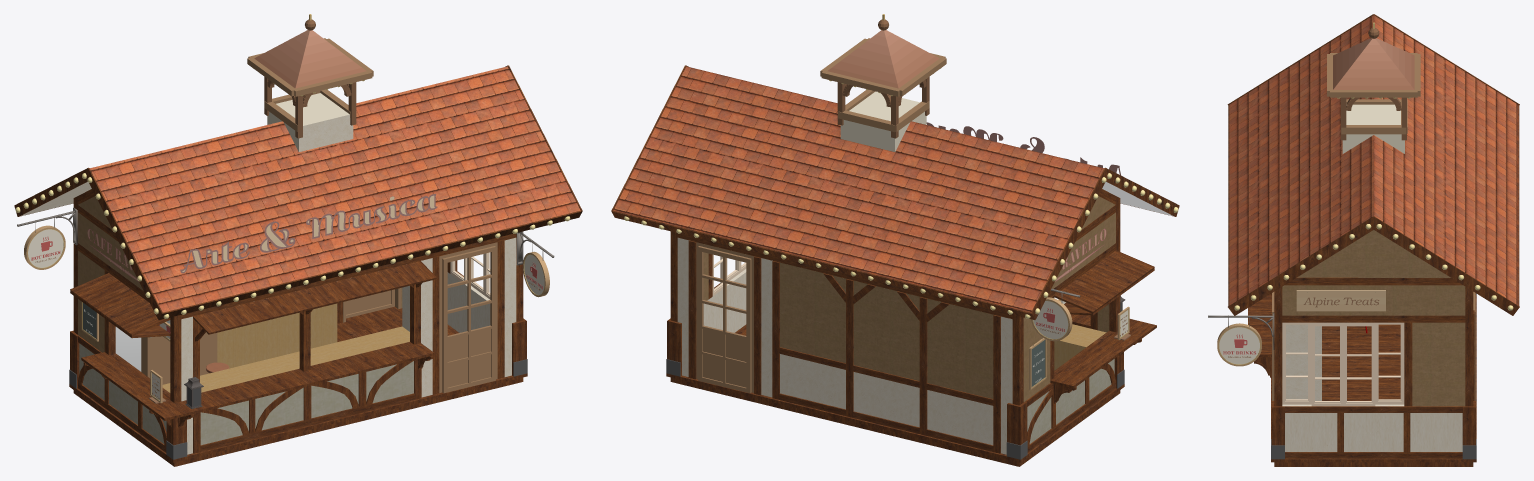
3 views of the same model, side by side, from view 1: azimuth 30°, elevation 25°; view 2: azimuth 150°, elevation 25°; view 3: azimuth 270°, elevation 25° (orthographic).
Visible parts, largest first — view 1: Geom3D (×22), Geom3D_ (×10), Geom3D_Component#24 (×4), Geom3D_Component#35, Geom3D_Component#29, Geom3D_Thanh dinh#5, Geom3D_Component#22, Geom3D_Thanh dinh#4, Geom3D_Bo goc#1; view 2: Geom3D (×17), Geom3D_ (×10), Geom3D_Component#36 (×6), Geom3D_Thanh dinh#5 (×2), Geom3D_Component#35, Geom3D_Component#22 (×3), Geom3D_Component#32, Geom3D_Bo goc#1 (×2), Geom3D_Thanh dinh#4; view 3: Geom3D (×14), Geom3D_ (×9), Geom3D_Component#23 (×2), Geom3D_Thanh dinh#4 (×2), Geom3D_Component#25 (×2), Geom3D_Component#22 (×2), Geom3D_Component#27 (×2), Geom3D_Bo goc#1 (×2), Geom3D_Component#35 (×2), Geom3D_Component#21.
Boxes of the visible parts, x1=… form: Geom3D (×22): x1=20, y1=42, x2=580, y2=454; Geom3D_ (×10): x1=14, y1=167, x2=527, y2=466; Geom3D_Component#24 (×4): x1=299, y1=240, x2=504, y2=394; Geom3D_Component#35: x1=160, y1=210, x2=581, y2=319; Geom3D_Component#29: x1=181, y1=233, x2=516, y2=319; Geom3D_Thanh dinh#5: x1=200, y1=393, x2=414, y2=451; Geom3D_Component#22: x1=170, y1=315, x2=181, y2=402; Geom3D_Thanh dinh#4: x1=78, y1=382, x2=166, y2=452; Geom3D_Bo goc#1: x1=512, y1=318, x2=526, y2=375; Geom3D (×17): x1=613, y1=42, x2=1106, y2=454; Geom3D_ (×10): x1=666, y1=167, x2=1179, y2=466; Geom3D_Component#36 (×6): x1=688, y1=240, x2=1000, y2=453; Geom3D_Thanh dinh#5 (×2): x1=779, y1=347, x2=993, y2=451; Geom3D_Component#35: x1=612, y1=210, x2=1033, y2=319; Geom3D_Component#22 (×3): x1=670, y1=196, x2=1120, y2=405; Geom3D_Component#32: x1=677, y1=233, x2=1012, y2=319; Geom3D_Bo goc#1 (×2): x1=667, y1=318, x2=1027, y2=445; Geom3D_Thanh dinh#4: x1=1027, y1=382, x2=1115, y2=452; Geom3D (×14): x1=1219, y1=15, x2=1518, y2=451; Geom3D_ (×9): x1=1227, y1=14, x2=1519, y2=466; Geom3D_Component#23 (×2): x1=1282, y1=277, x2=1465, y2=322; Geom3D_Thanh dinh#4 (×2): x1=1285, y1=406, x2=1462, y2=458; Geom3D_Component#25 (×2): x1=1311, y1=322, x2=1375, y2=406; Geom3D_Component#22 (×2): x1=1274, y1=287, x2=1473, y2=406; Geom3D_Component#27 (×2): x1=1282, y1=322, x2=1404, y2=404; Geom3D_Bo goc#1 (×2): x1=1271, y1=401, x2=1475, y2=445; Geom3D_Component#35 (×2): x1=1228, y1=105, x2=1519, y2=305; Geom3D_Component#21: x1=1404, y1=322, x2=1412, y2=406.
Size of the model in its own units: 7.66 by 6.09 by 4.7.
91 materials, 13 textured.
